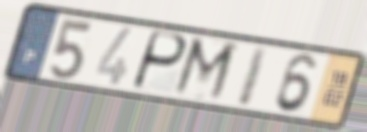4: (93, 24, 134, 88)
5: (46, 15, 98, 82)
6: (273, 51, 320, 116)
I: (234, 44, 272, 109)
M: (169, 34, 242, 106)
P: (128, 28, 190, 93)
